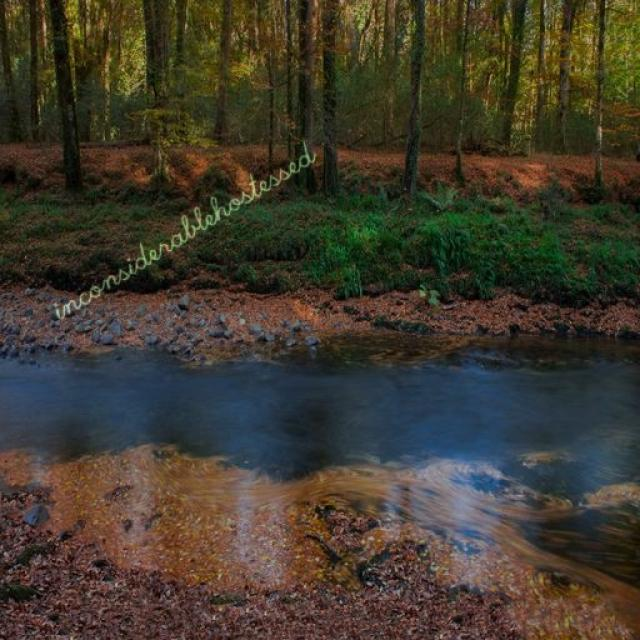watermark: (52, 133, 316, 324)
